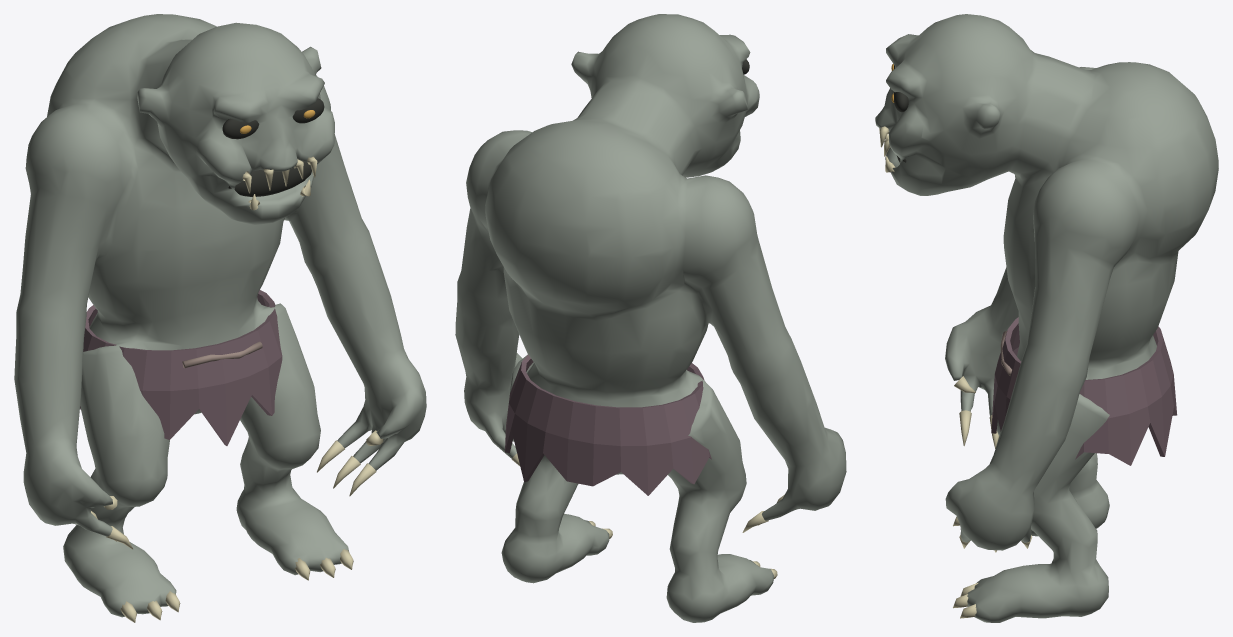
Rendered from crypt-ghoul-blender-v4.glb.
3 views of the same model, side by side, from view 1: azimuth 30°, elevation 25°; view 2: azimuth 150°, elevation 25°; view 3: azimuth 270°, elevation 25° (orthographic). The views are drawn at different scales.
Visible parts, largest first — view 1: GhoulSkin, Torn burial wrap, Mouth opening, Cloth tie; view 2: GhoulSkin, Torn burial wrap; view 3: GhoulSkin, Torn burial wrap.
Part boxes in pixels (bbox=[...]): GhoulSkin: bbox=[14, 14, 426, 617]; Torn burial wrap: bbox=[80, 290, 282, 445]; Mouth opening: bbox=[228, 161, 311, 196]; Cloth tie: bbox=[182, 341, 262, 368]; GhoulSkin: bbox=[455, 14, 846, 622]; Torn burial wrap: bbox=[505, 354, 711, 495]; GhoulSkin: bbox=[875, 14, 1218, 622]; Torn burial wrap: bbox=[991, 317, 1177, 465].
Size of the model in its own units: 1.52 by 2.13 by 1.2.
